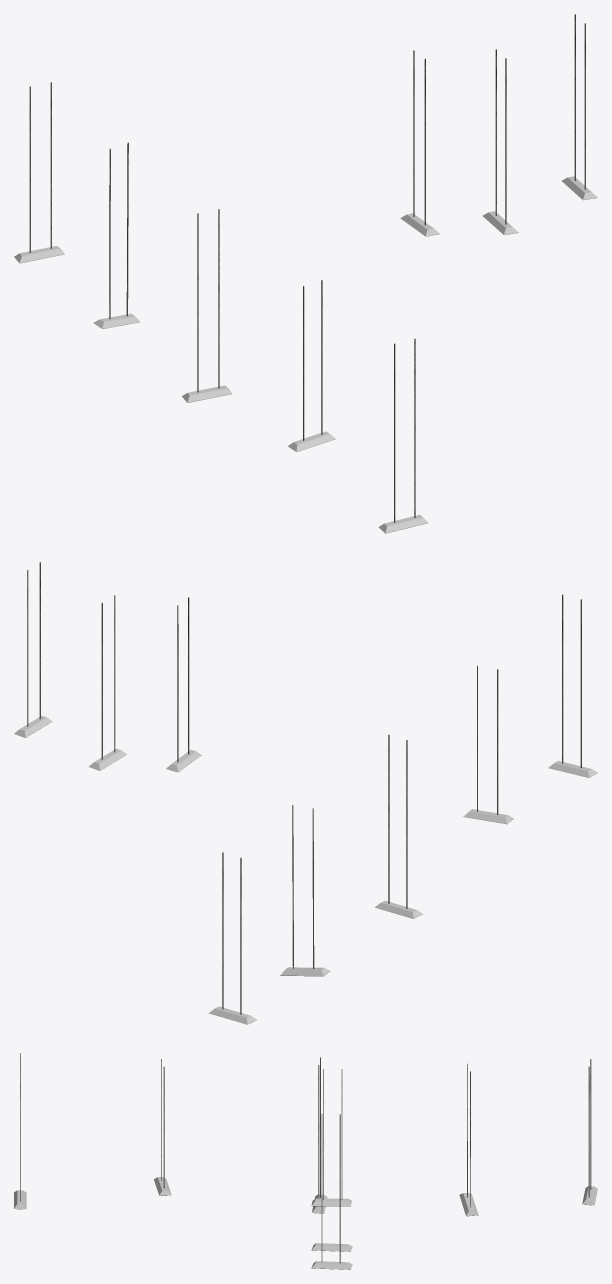
Rendered from SM_Toilets_00_Lamps_00.fbx.
3 renders of one model, top to bottom at view 1: azimuth 30°, elevation 25°; view 2: azimuth 150°, elevation 25°; view 3: azimuth 270°, elevation 25°, orthographic. The views are drawn at different scales.
Visible parts, largest first — view 1: SM_Toilets_00_Lamps_00; view 2: SM_Toilets_00_Lamps_00; view 3: SM_Toilets_00_Lamps_00.
Part boxes in pixels (x1=…): SM_Toilets_00_Lamps_00: x1=14, y1=14, x2=597, y2=533; SM_Toilets_00_Lamps_00: x1=14, y1=562, x2=597, y2=1024; SM_Toilets_00_Lamps_00: x1=14, y1=1053, x2=597, y2=1269.
Bounding box in the file's own units: 1904 × 1246 × 2975.
